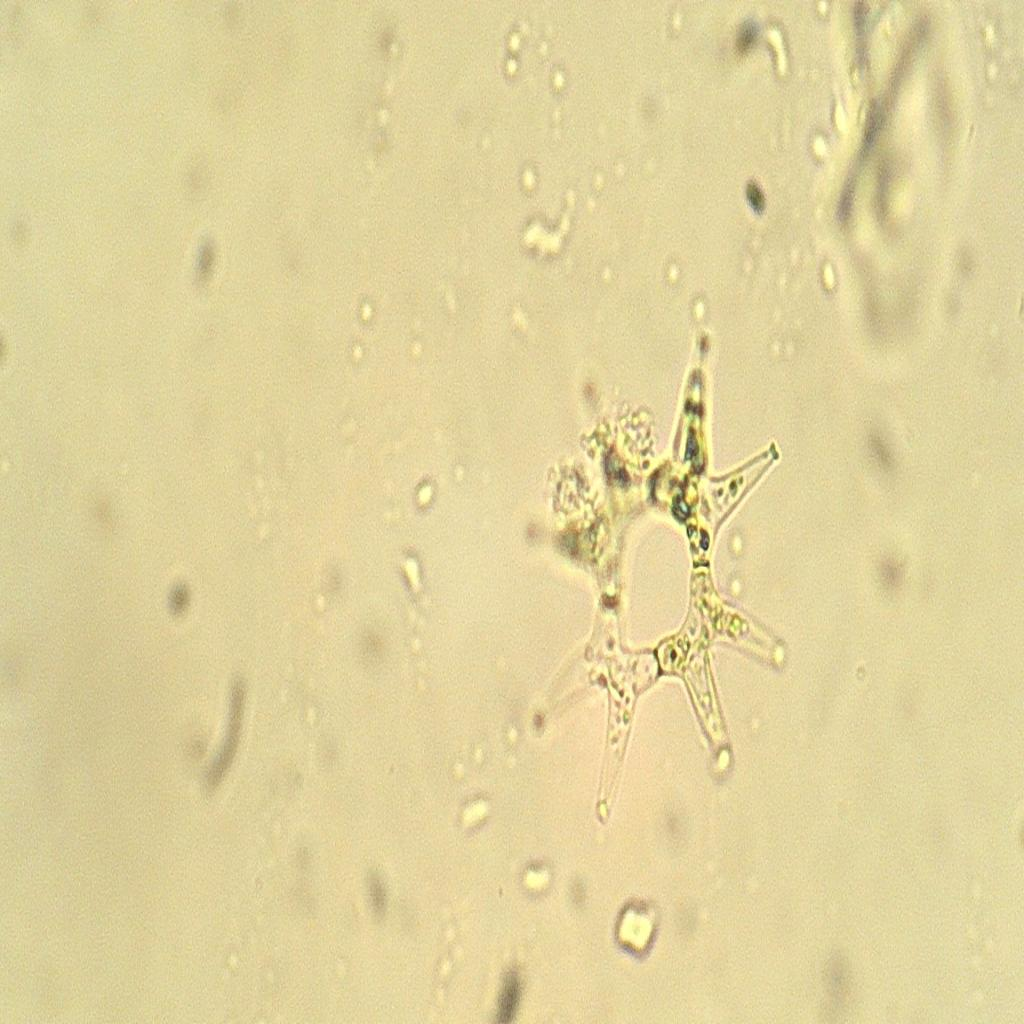Pediastrum_1F0: (490, 313, 812, 836)
